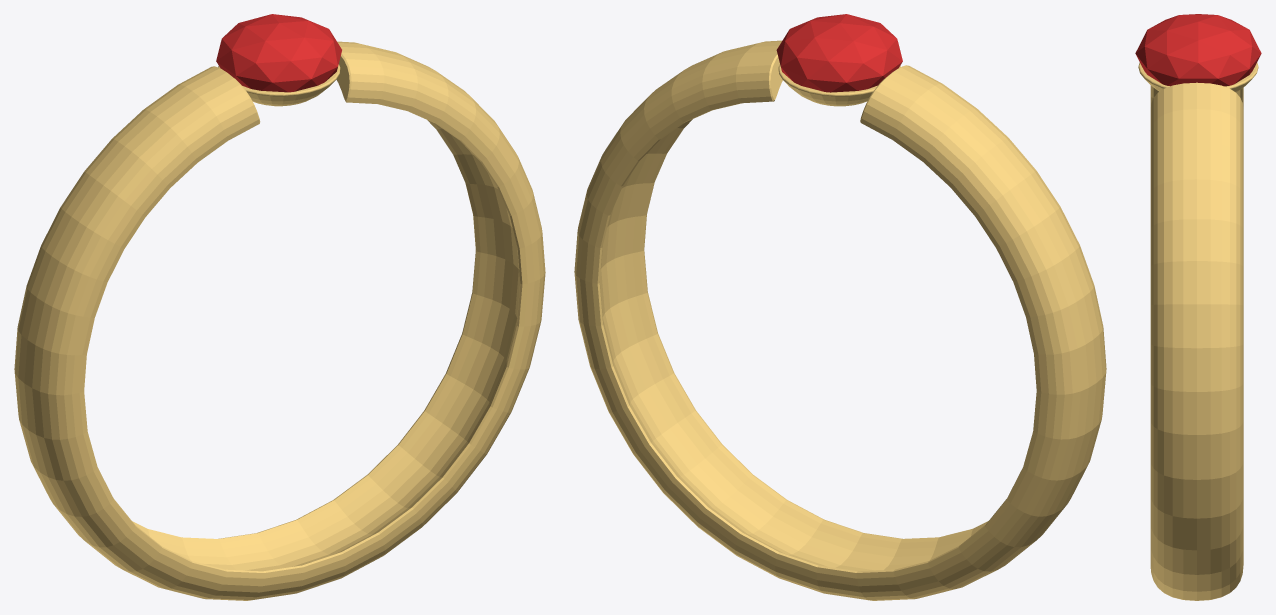
File: Ring.gltf
3 views of the same model, side by side, from view 1: azimuth 30°, elevation 25°; view 2: azimuth 150°, elevation 25°; view 3: azimuth 270°, elevation 25° (orthographic). The views are drawn at different scales.
Visible parts, largest first — view 1: node-0; view 2: node-0; view 3: node-0.
Part boxes in pixels (x1,y1,x2,y2): node-0: (14,14,545,600); node-0: (574,14,1106,600); node-0: (1135,14,1261,600).
Size of the model in its own units: 140 by 147 by 30.47.
